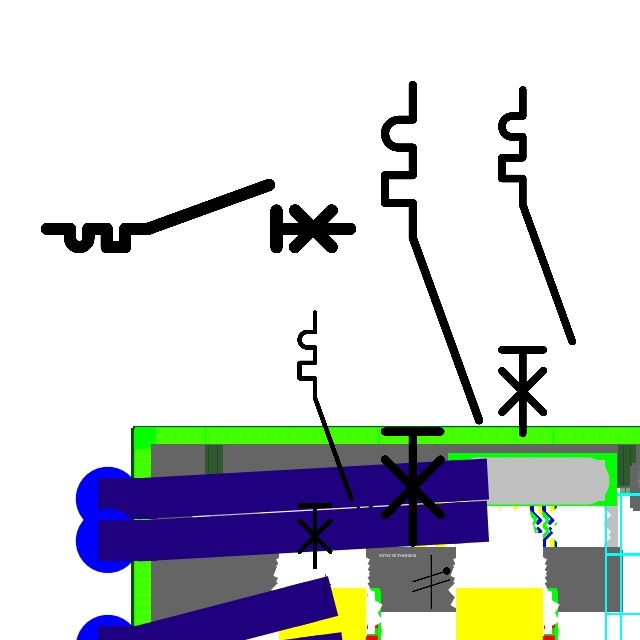interruptor_termomagnetico: (373, 73, 491, 555), (493, 81, 581, 442), (39, 177, 358, 255), (293, 306, 358, 573)
